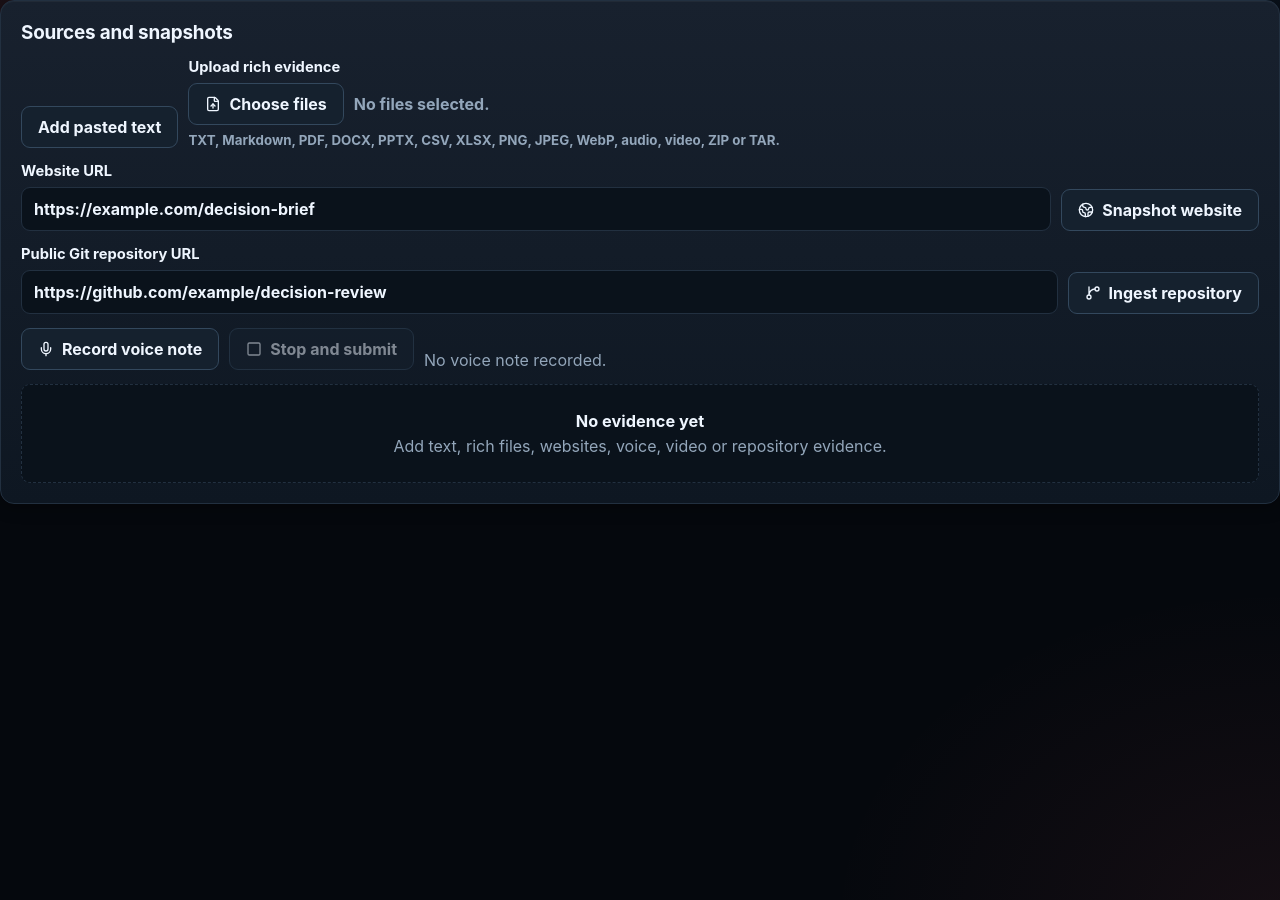
Scenario: Stage 2 voice source intake › surfaces microphone permission failures
Step 1. Click the button "Record voice note" → coordinates (120, 349), box [21,328,219,370]
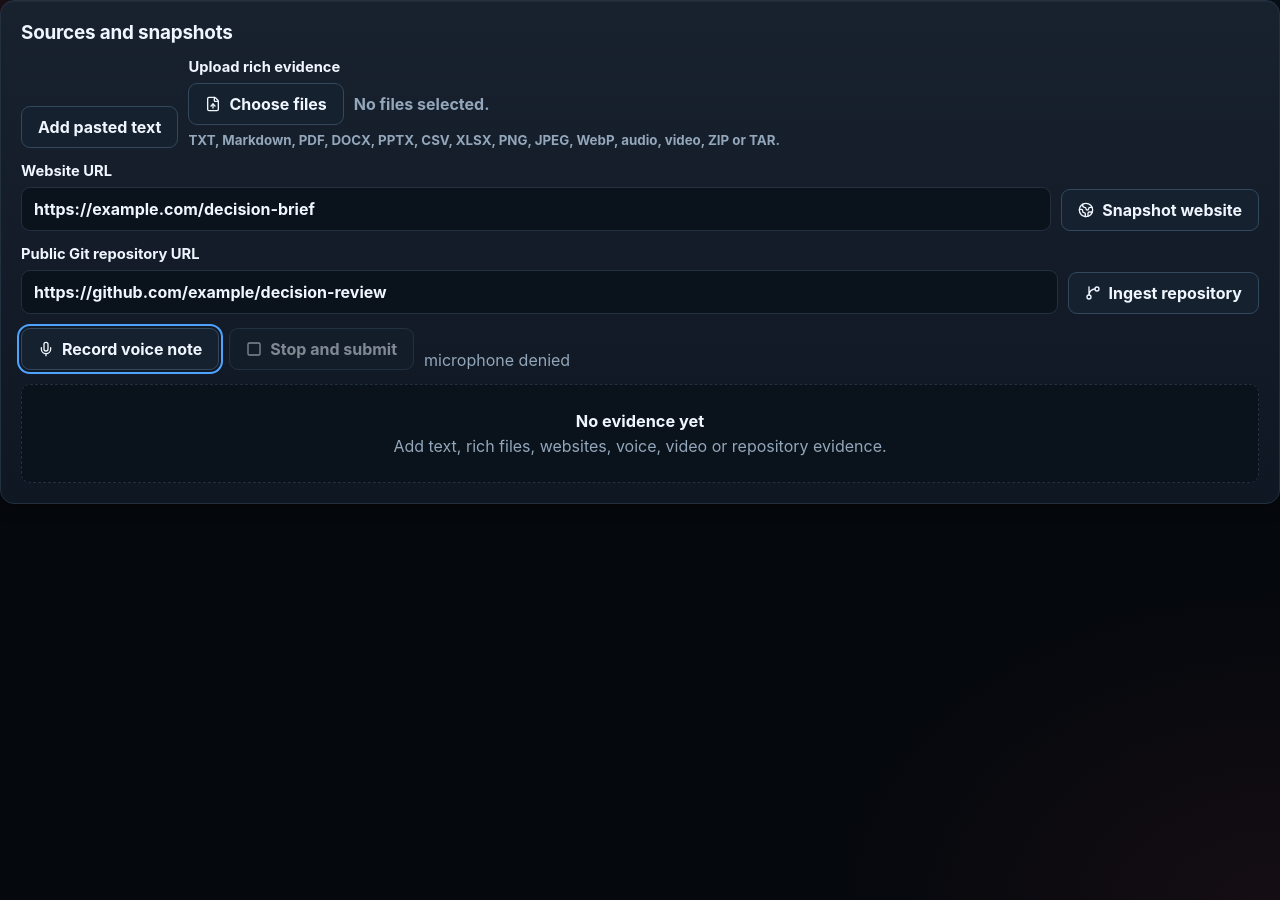
Result: the text "microphone denied" is shown at [424,350,570,370]
